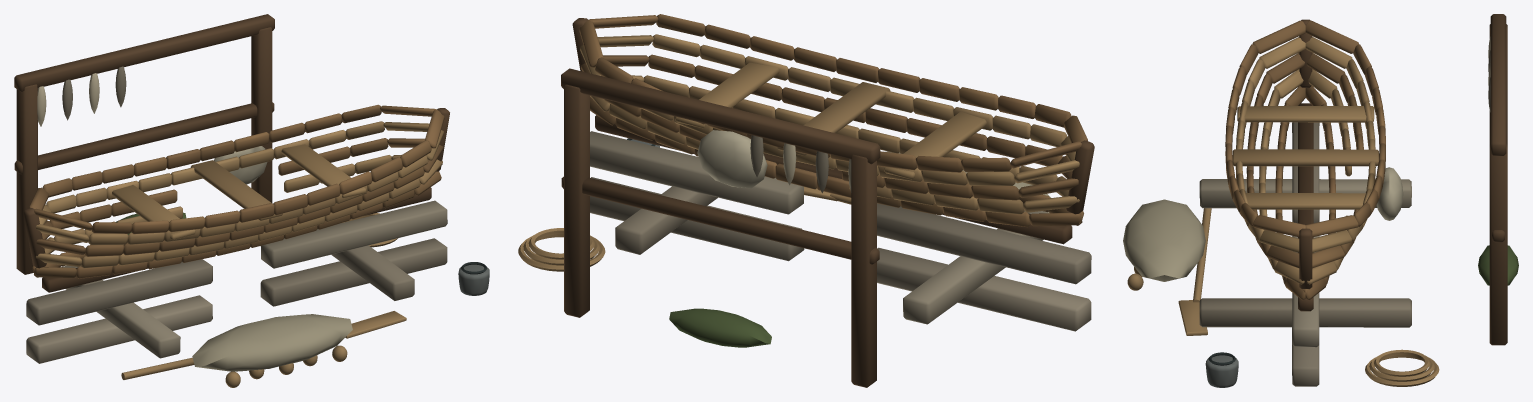
The model's file is skiff_on_blocks_b.glb.
3 renders of one model, left to right at view 1: azimuth 30°, elevation 25°; view 2: azimuth 150°, elevation 25°; view 3: azimuth 270°, elevation 25°, orthographic. The views are drawn at different scales.
Visible parts, largest first — view 1: Surface; view 2: Surface; view 3: Surface.
Boxes of the visible parts, left/top/right/bottom form: Surface: left=14, top=14, right=489, bottom=387; Surface: left=518, top=14, right=1094, bottom=387; Surface: left=1123, top=14, right=1518, bottom=387.
Size of the model in its own units: 7.93 by 3.52 by 6.16.
